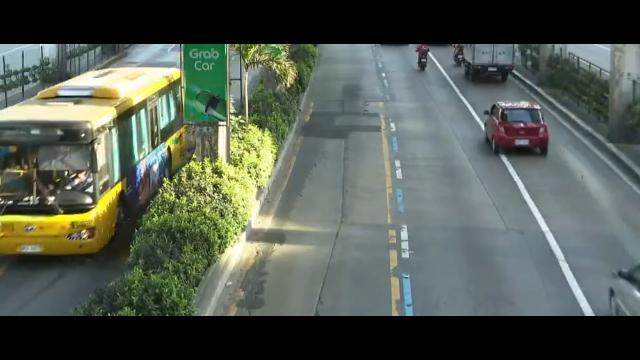bus: (0, 53, 181, 270)
car: (462, 86, 573, 165)
motorcycle: (415, 44, 431, 71), (453, 44, 468, 65)
truck: (449, 45, 523, 83)
